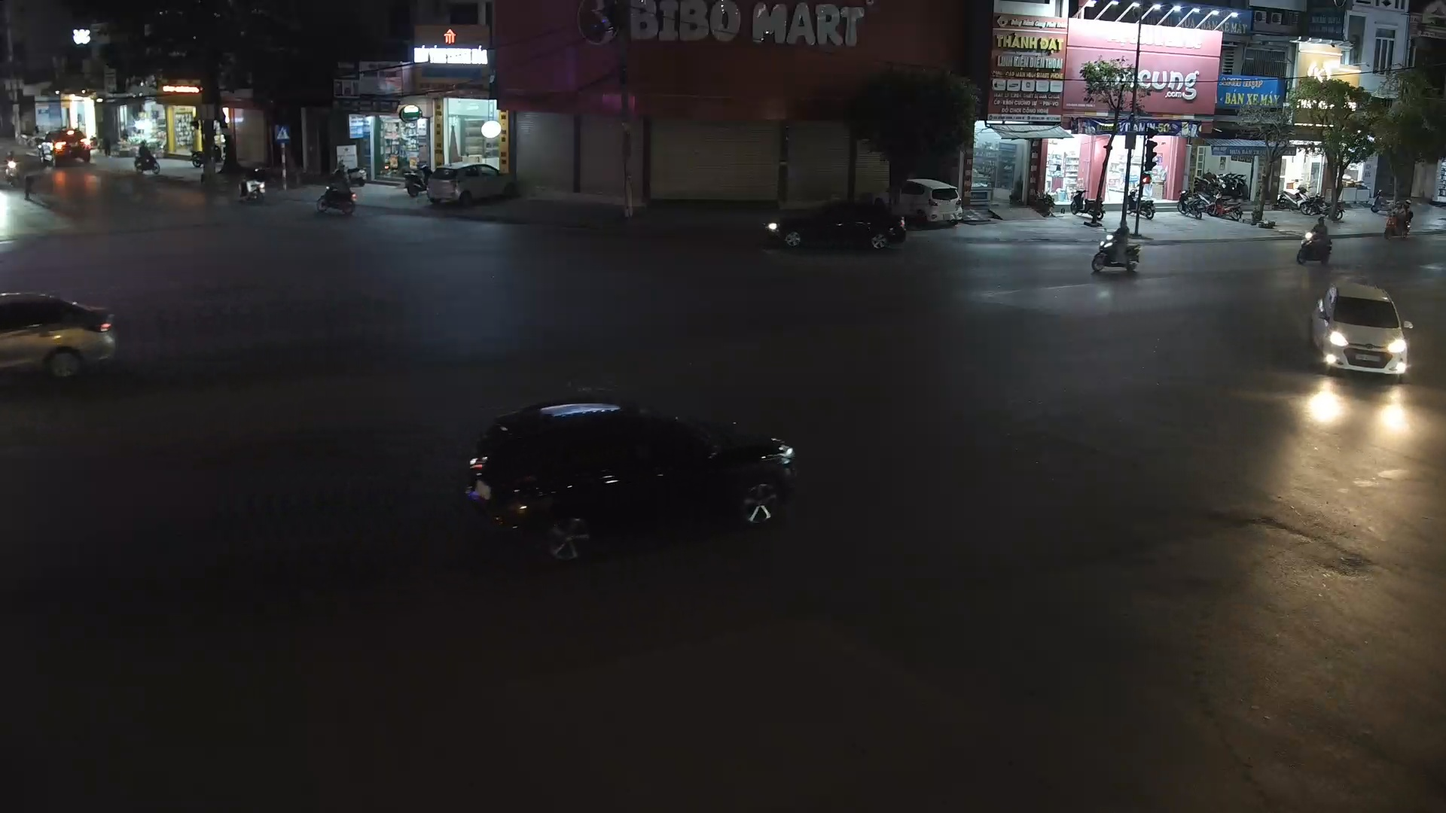car: (463, 397, 798, 561), (0, 288, 119, 388), (1311, 276, 1416, 380)
motorbike: (1088, 215, 1144, 279), (1295, 220, 1335, 265)
